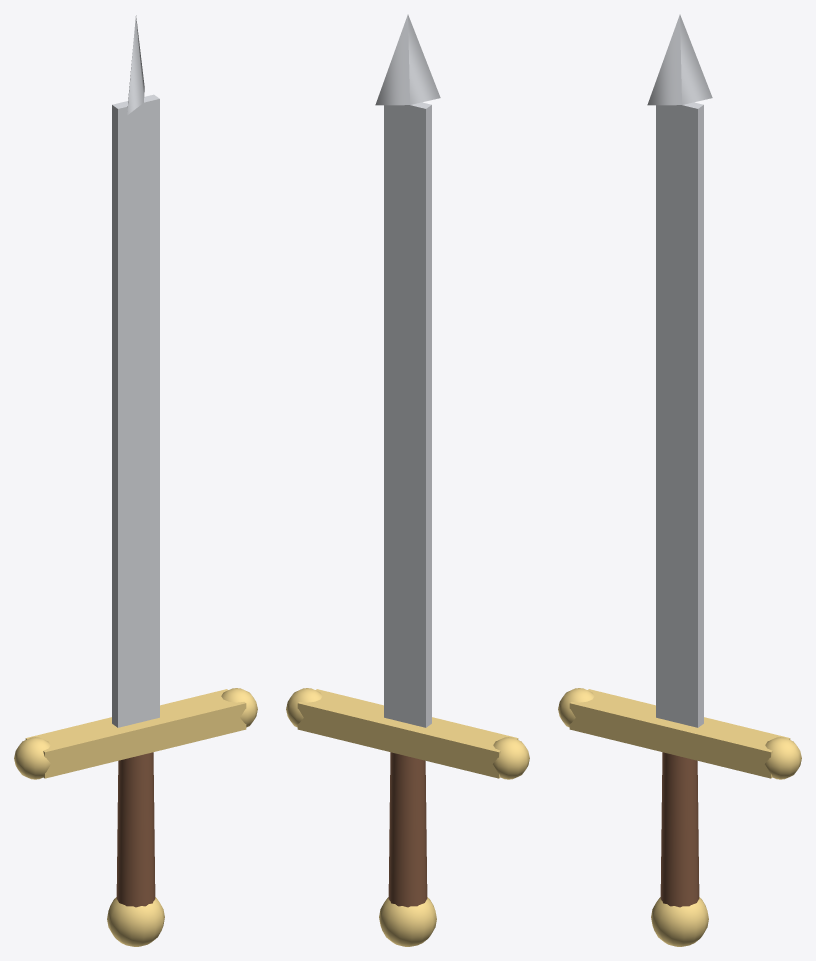
The model's file is spada.glb.
3 views of the same model, side by side, from view 1: azimuth 30°, elevation 25°; view 2: azimuth 150°, elevation 25°; view 3: azimuth 330°, elevation 25° (orthographic).
Parts seen in each view (by area): view 1: spada; view 2: spada; view 3: spada.
Part boxes in pixels (x1,y1,x2,y2): spada: (14, 15, 257, 946); spada: (286, 14, 529, 946); spada: (558, 14, 801, 946).
Bounding box in the file's own units: 0.284 × 1.06 × 0.0585.
